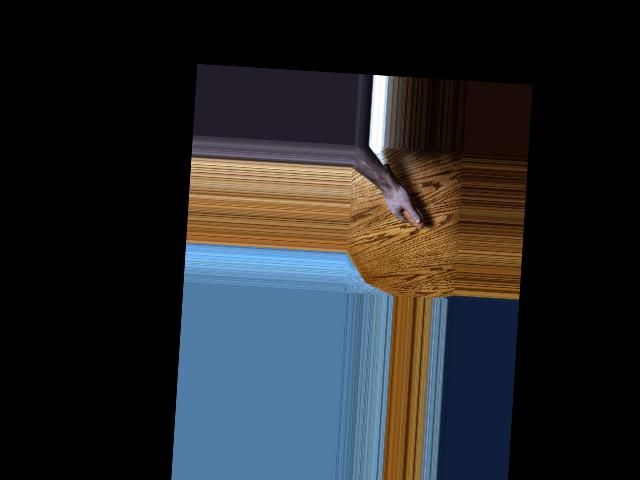sweet_potato: (378, 161, 428, 229)
